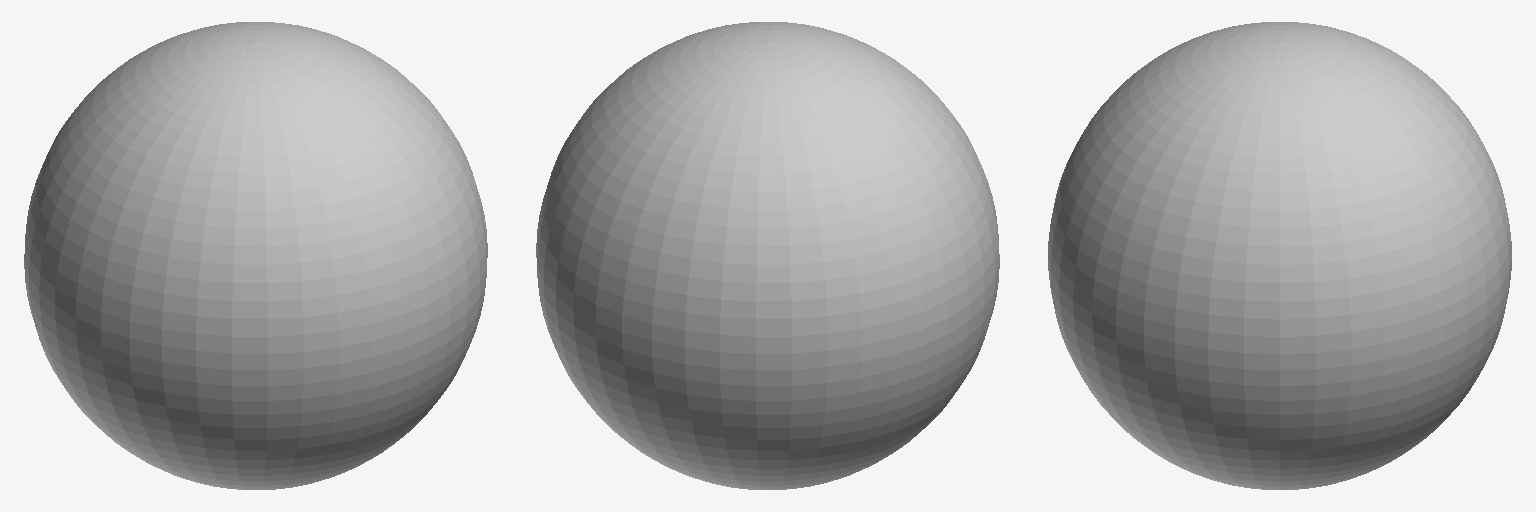
Rendered from light.obj.
The picture shows the model from 3 angles: view 1: azimuth 30°, elevation 25°; view 2: azimuth 150°, elevation 25°; view 3: azimuth 270°, elevation 25°; orthographic projection.
Visible parts, largest first — view 1: light; view 2: light; view 3: light.
Boxes of the visible parts, box(x1,y1,x2,y2) form: light: box(24, 22, 487, 489); light: box(536, 22, 999, 489); light: box(1048, 22, 1511, 489).
Size of the model in its own units: 1.97 by 2 by 1.97.